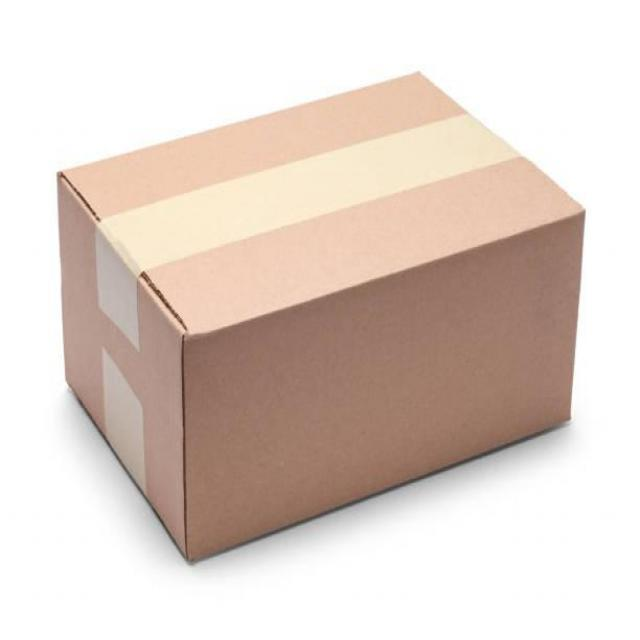box: (53, 62, 590, 574)
